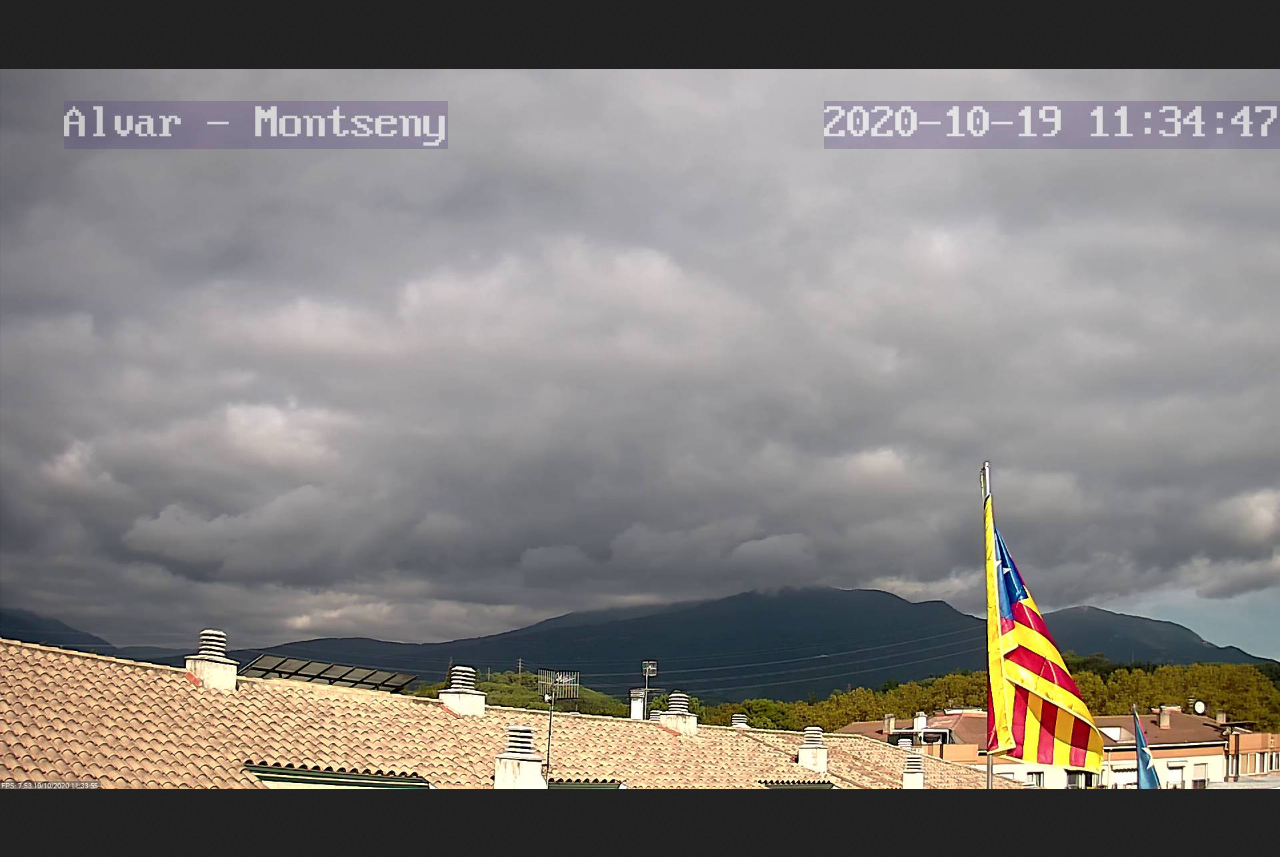no: (960, 453, 1124, 774)
